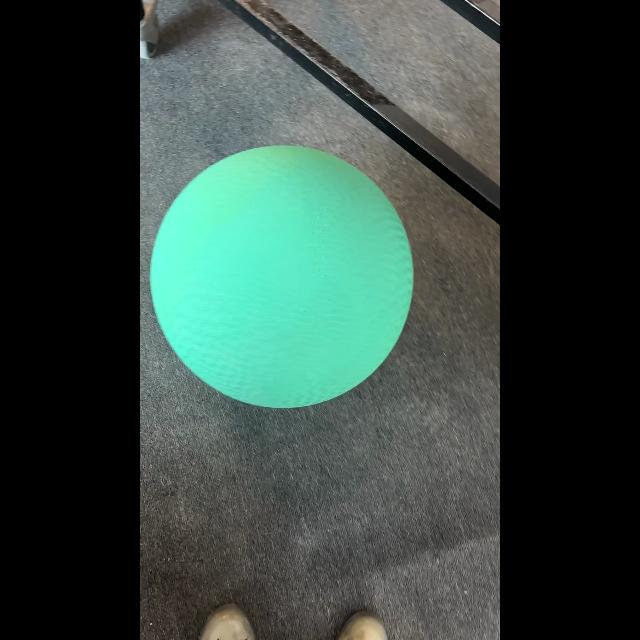ALGAE: (149, 144, 415, 408)
